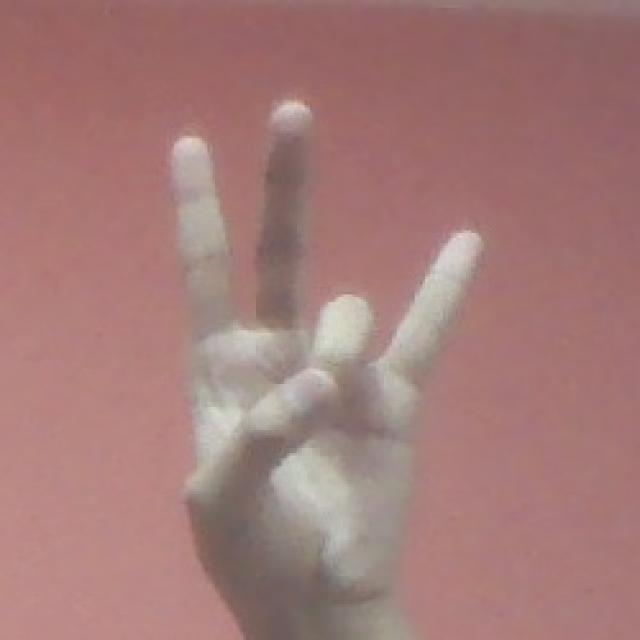Numeric-7: (148, 95, 490, 630)
